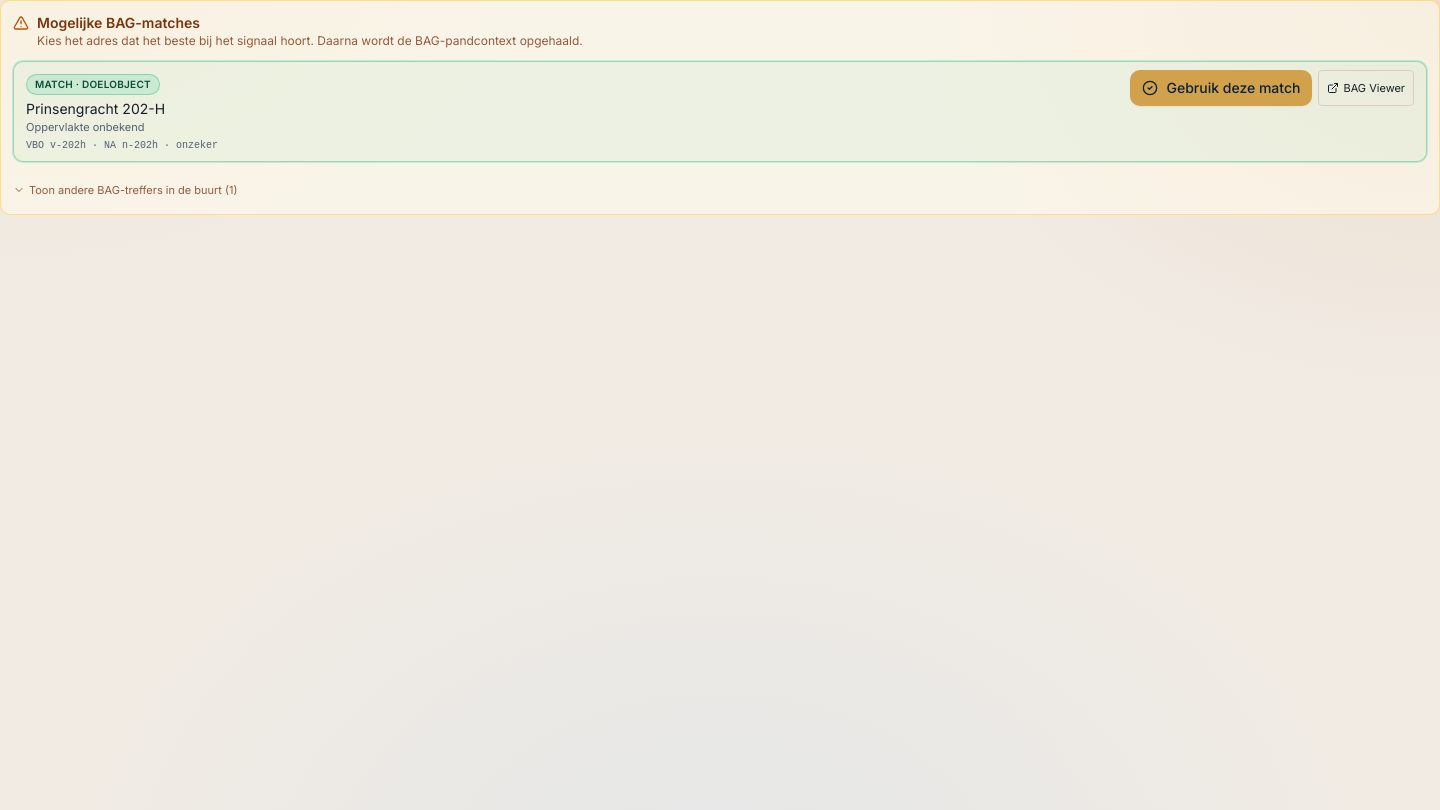
Test: BagMatchResolver — nearby kan geen doelobject zijn › nearby toggle openen → kies-knop is disabled
Click the button with test id "bag-match-nearby-toggle" at (125, 190), box x1=13 y1=182 x2=238 y2=198
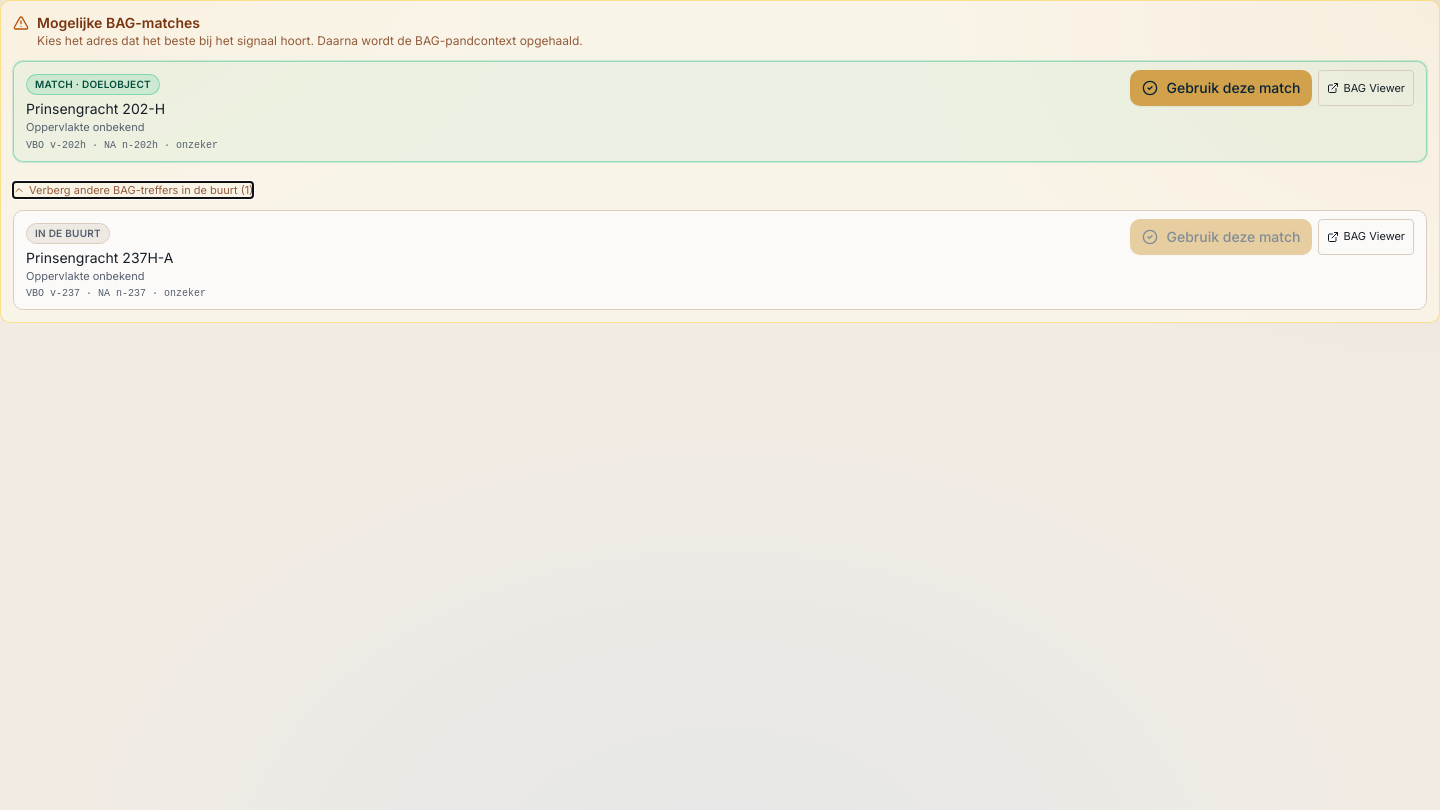
Check: the button with test id "bag-match-kies-knop" is disabled, box x1=1130 y1=218 x2=1312 y2=254
